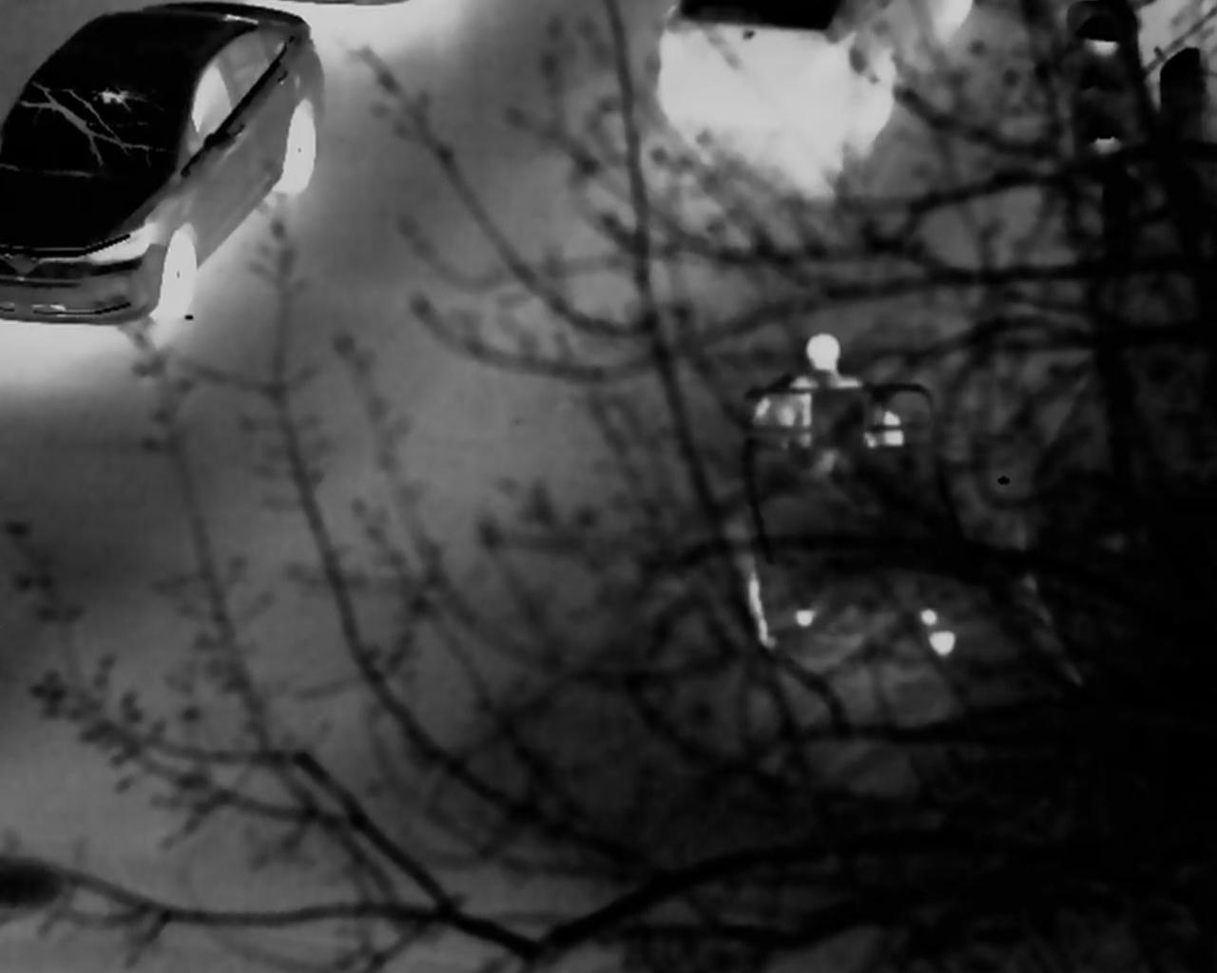person: (786, 339, 895, 479)
